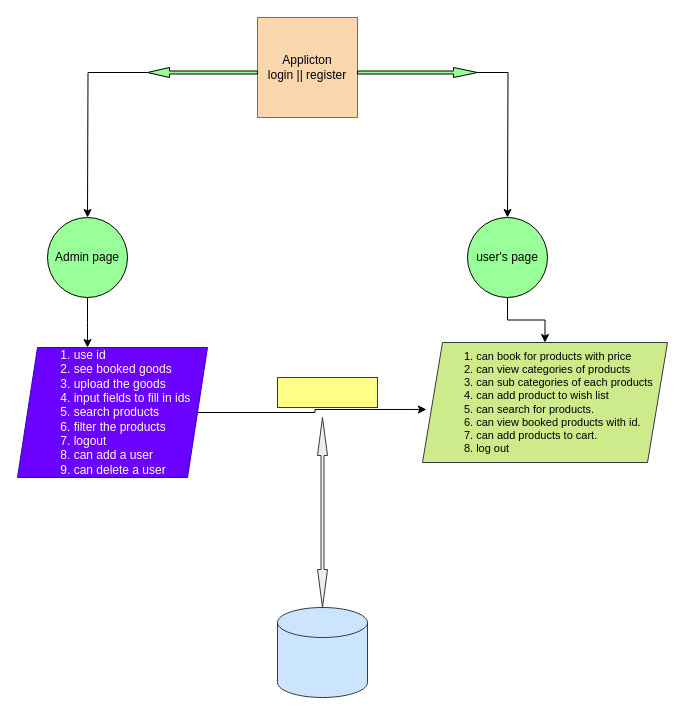
Some shapes in this 685 by 715 pixel diagram are drawn without their labels. The box of each missing label's shape, as (x1, y1, x2, y2) in pixels:
Admin can view user: (276, 376, 378, 408)
DB: (276, 606, 368, 698)
